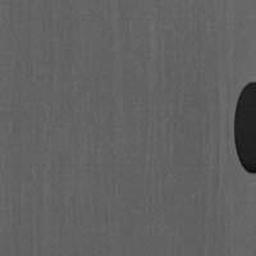Punching: (233, 82, 256, 175)
